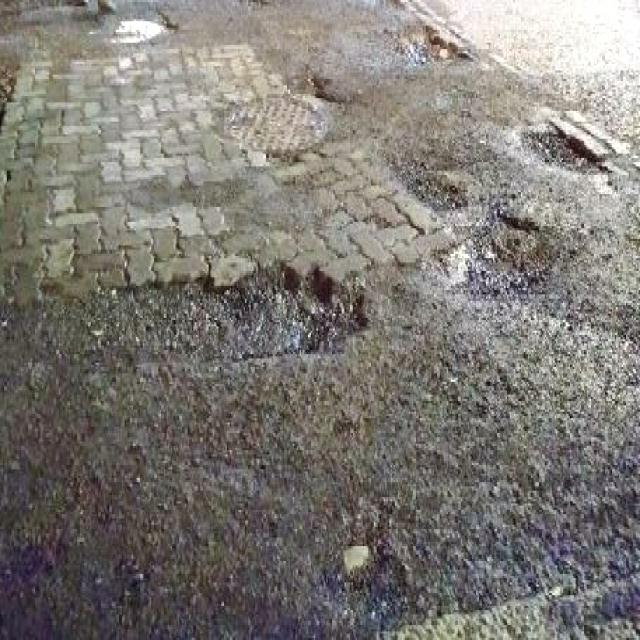Pothole: (97, 254, 368, 365), (437, 209, 560, 301), (520, 124, 611, 175), (391, 15, 473, 70), (111, 6, 176, 47), (406, 169, 465, 211)
